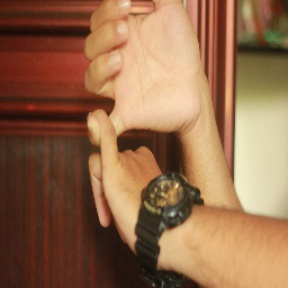S: (78, 1, 206, 247)
